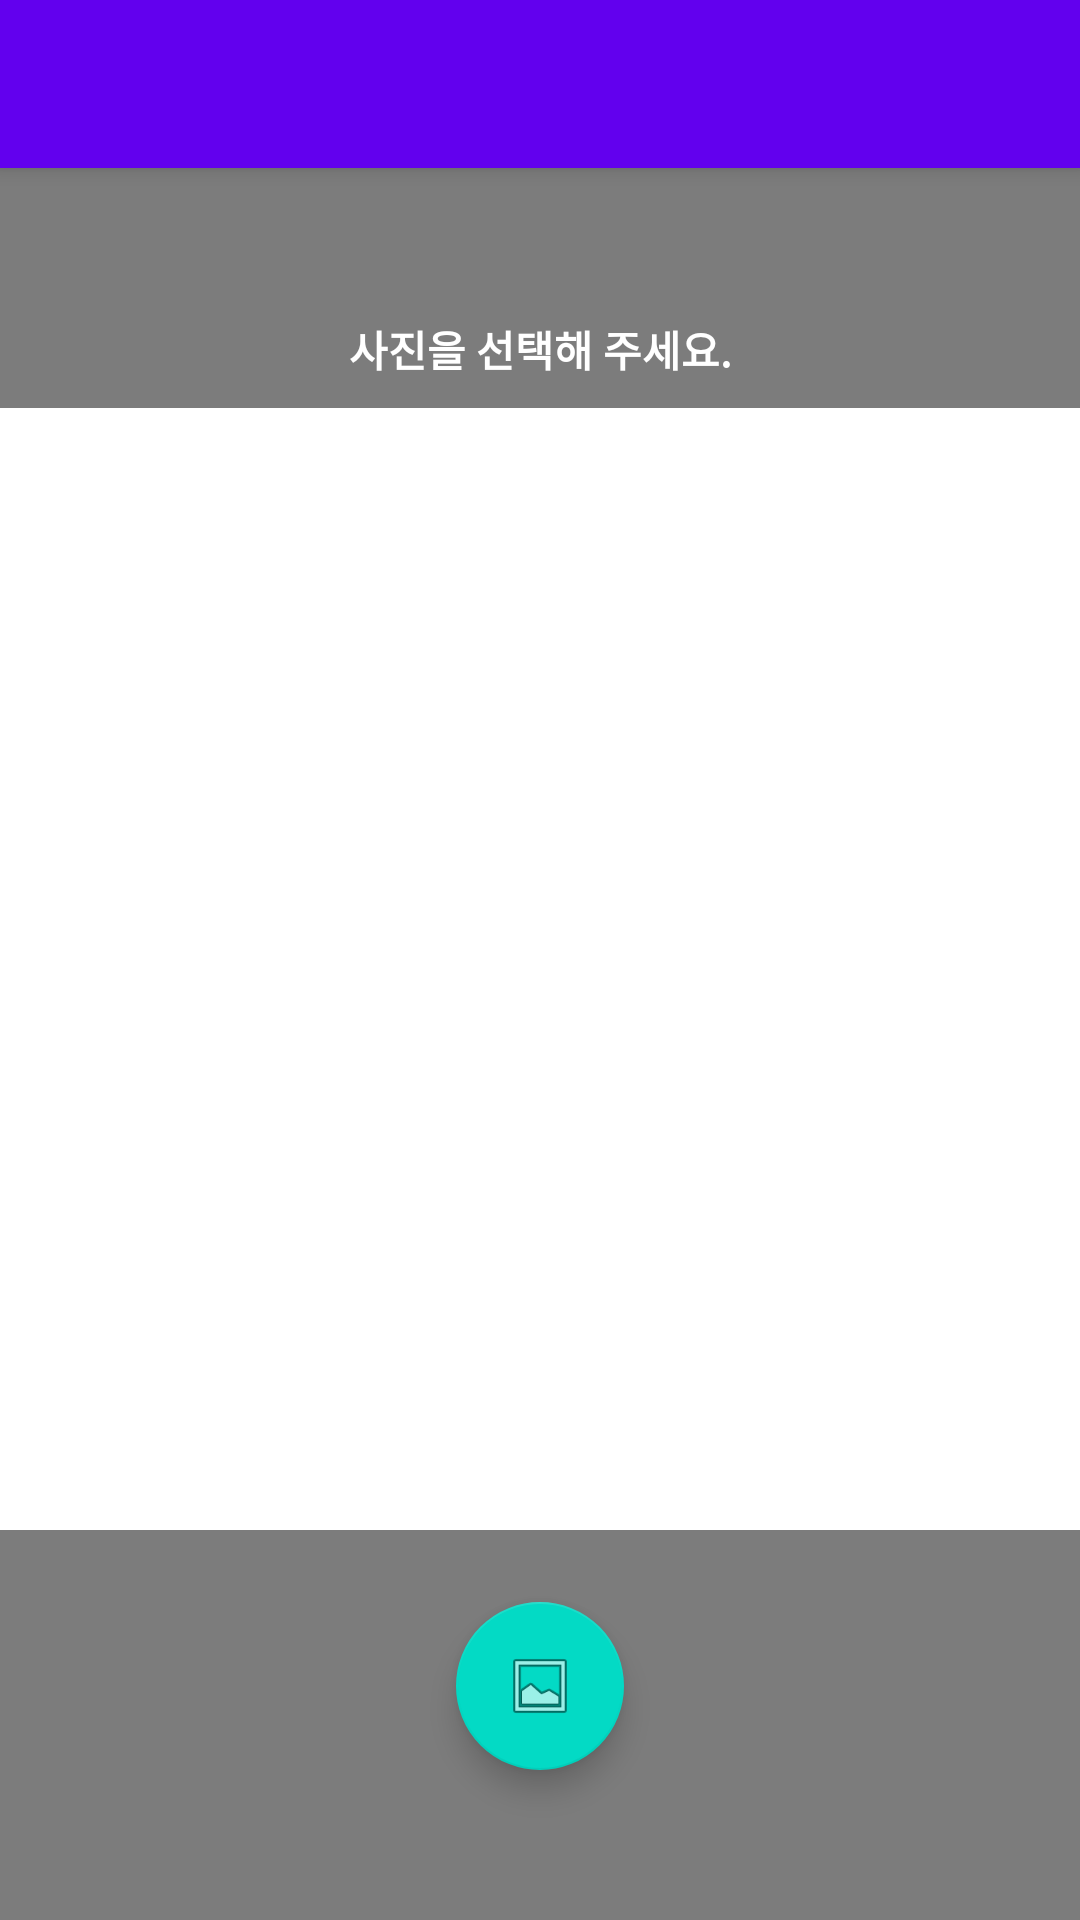

Icon click points for this 1080w x 1920h phone screenshot, format (x,y):
gallery: (540,1686)
